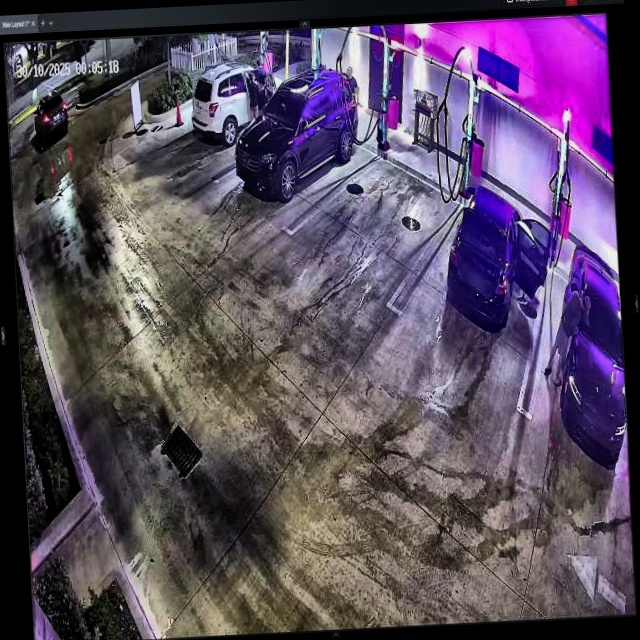Car: (230, 64, 362, 201), (441, 179, 555, 332)
